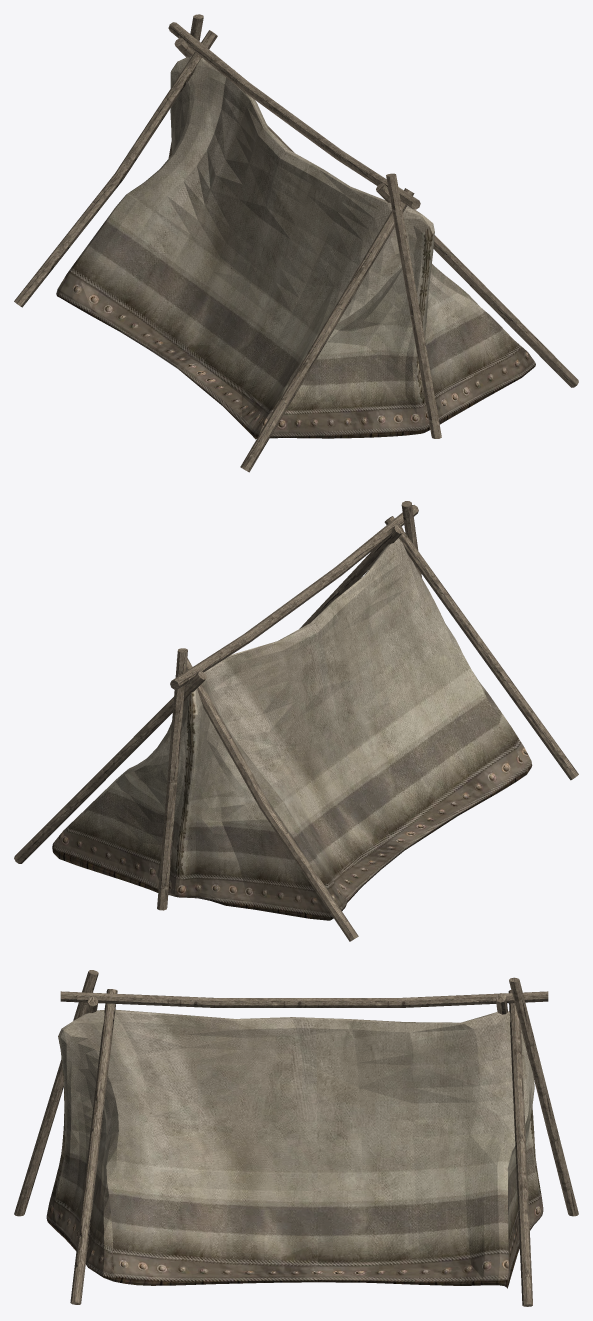
File: TW2_5_TENT_01_3-transformed.glb
3 views of the same model, one above another, from view 1: azimuth 30°, elevation 25°; view 2: azimuth 150°, elevation 25°; view 3: azimuth 270°, elevation 25° (orthographic).
Parts seen in each view (by area): view 1: default; view 2: default; view 3: default.
Boxes of the visible parts, x1,y1,x2,y2 form: default: (14, 14, 578, 472); default: (14, 501, 578, 941); default: (14, 970, 578, 1306).
Size of the model in its own units: 3.9 by 2.72 by 5.52.
Materials: 2 (2 with a texture image).
